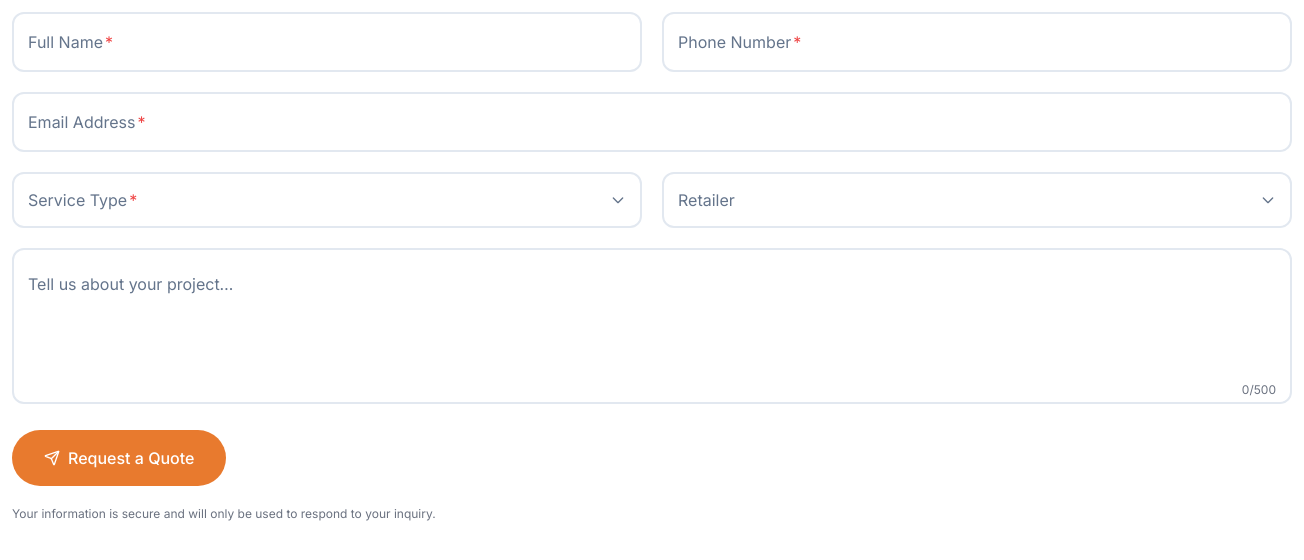
ContactForm › shows phone validation error for too-short number
The width and height of the screenshot is (1304, 560).
Type "123" into the field labelled "Phone Number*". click: [977, 42]
box: [662,12,1292,72]
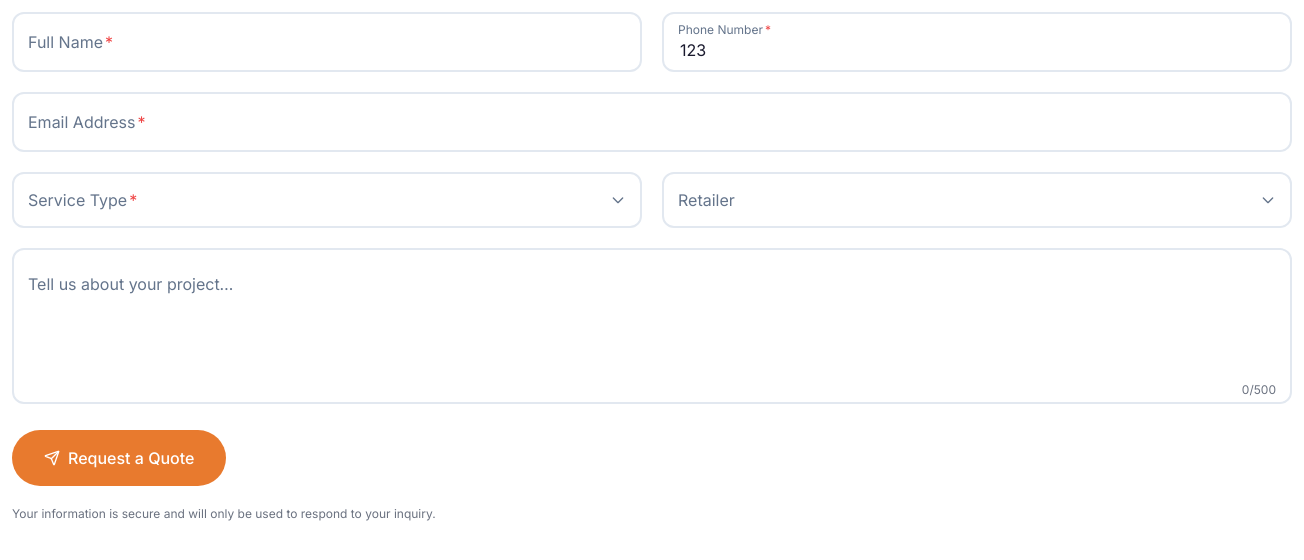
Leave the field labelled "Phone Number*", box [662,12,1292,72]
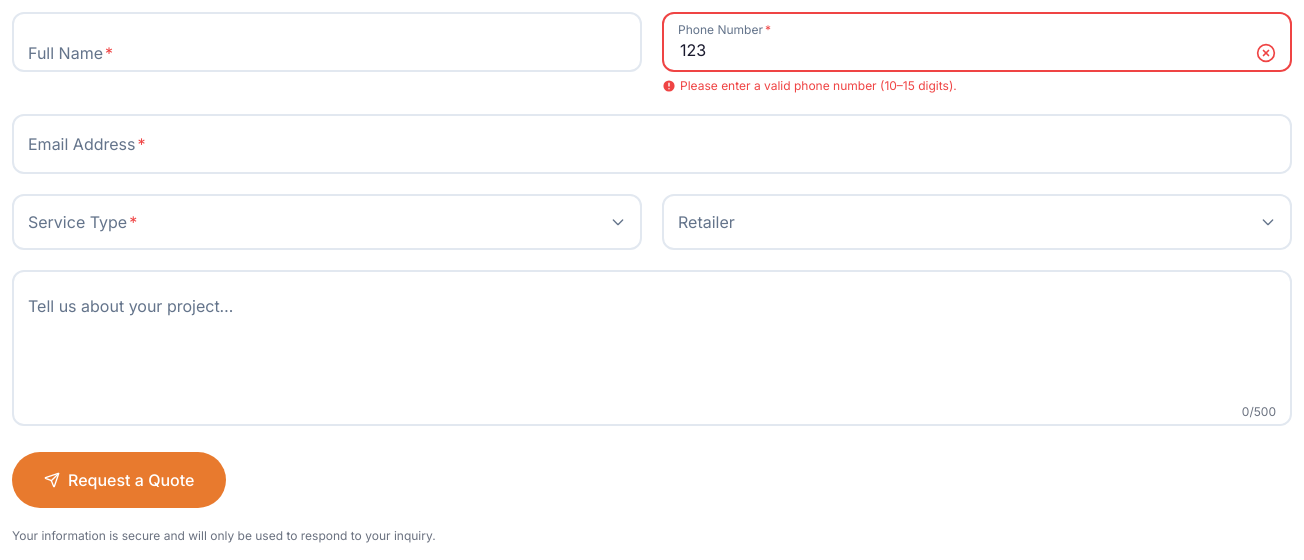
Check: the text "Please enter a valid phone number (10–15 digits)." is shown, box [662,78,957,93]
